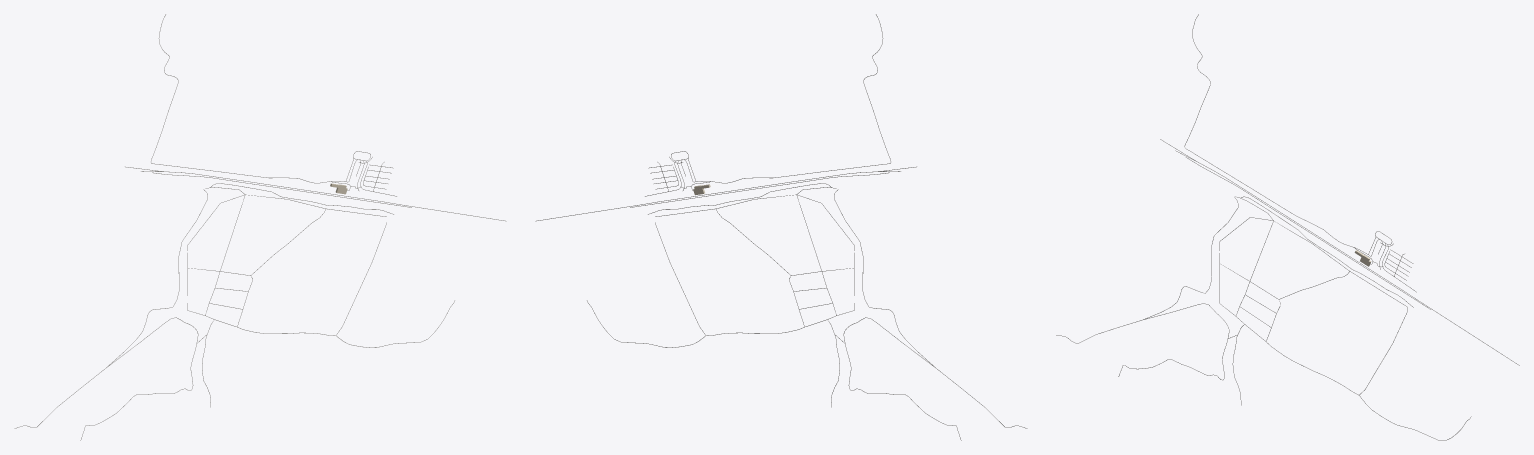
The model's file is historic-palestine-13_31_3548_3251.glb.
3 renders of one model, left to right at view 1: azimuth 30°, elevation 25°; view 2: azimuth 150°, elevation 25°; view 3: azimuth 330°, elevation 25°, orthographic. The views are drawn at different scales.
Bounding box in the file's own units: 1824 × 1438 × 8.7.
